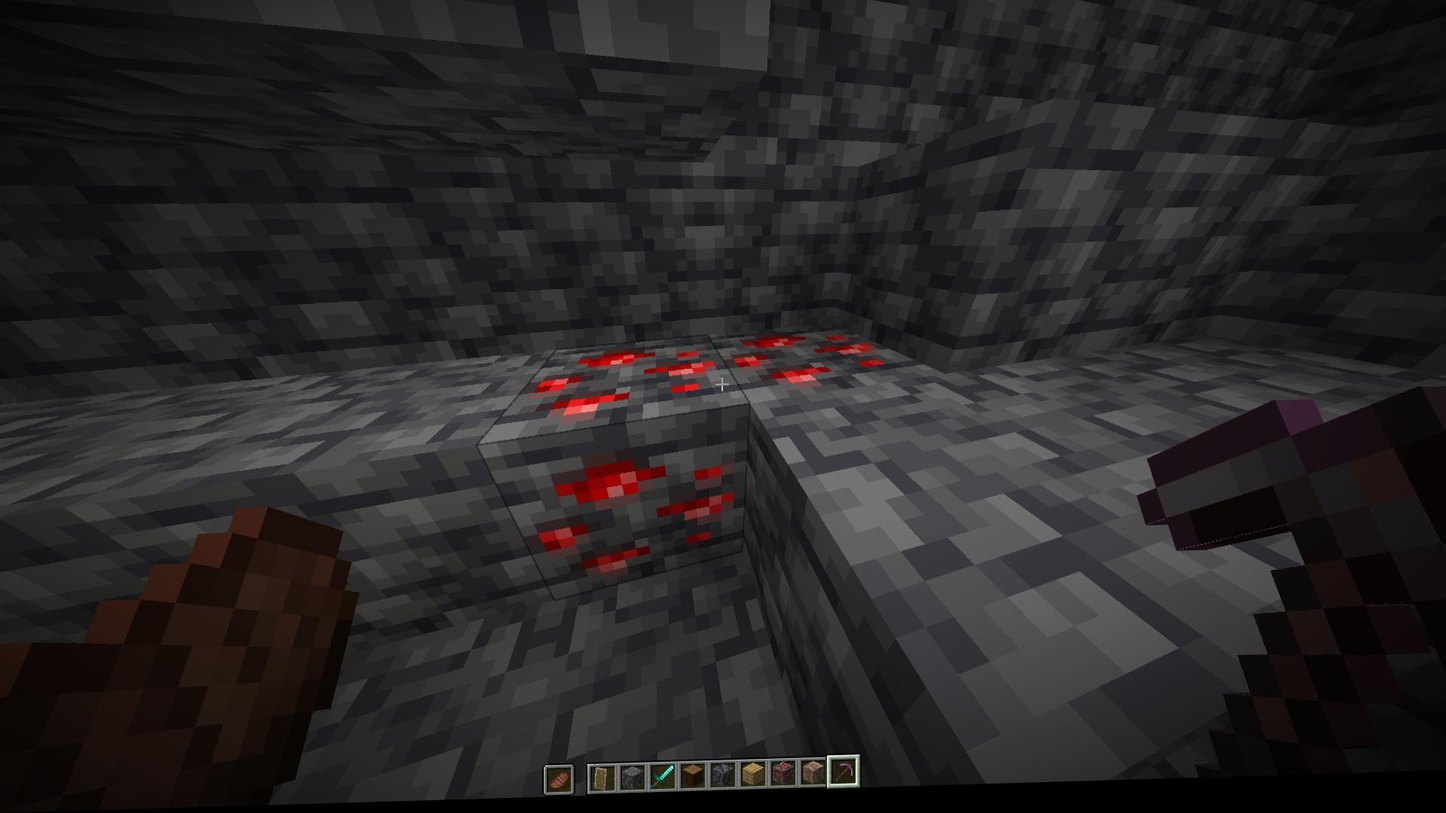redstone ore: (512, 340, 749, 596), (711, 319, 897, 397)
